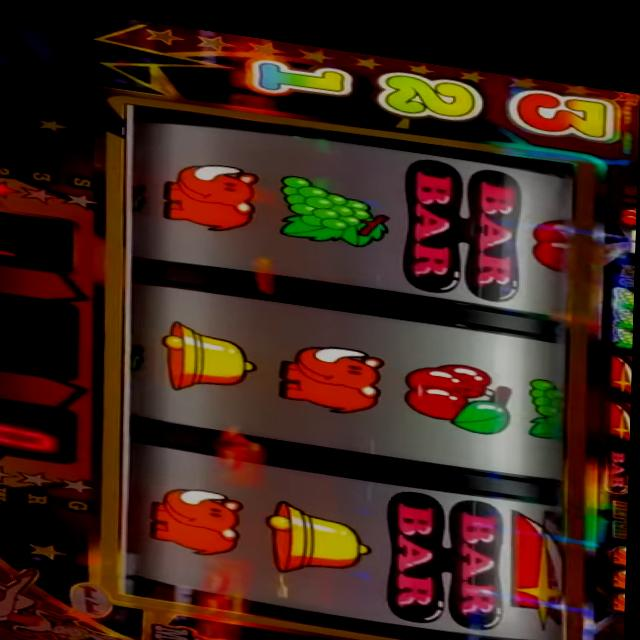bar: (389, 473, 505, 620), (410, 144, 522, 287), (606, 428, 632, 475)
bell: (267, 492, 374, 573), (163, 314, 260, 396)
cherry: (406, 341, 517, 422), (535, 198, 572, 258), (618, 186, 637, 207)
display: (124, 91, 578, 640)
elephant: (282, 329, 391, 408), (161, 153, 259, 230), (154, 476, 247, 553), (609, 523, 630, 545), (612, 547, 629, 570), (611, 571, 628, 594)
grape: (278, 163, 390, 244), (529, 355, 570, 425), (613, 264, 636, 290), (613, 285, 635, 308), (614, 308, 635, 331)
z: (508, 489, 565, 614), (609, 333, 634, 372), (605, 384, 630, 420)
